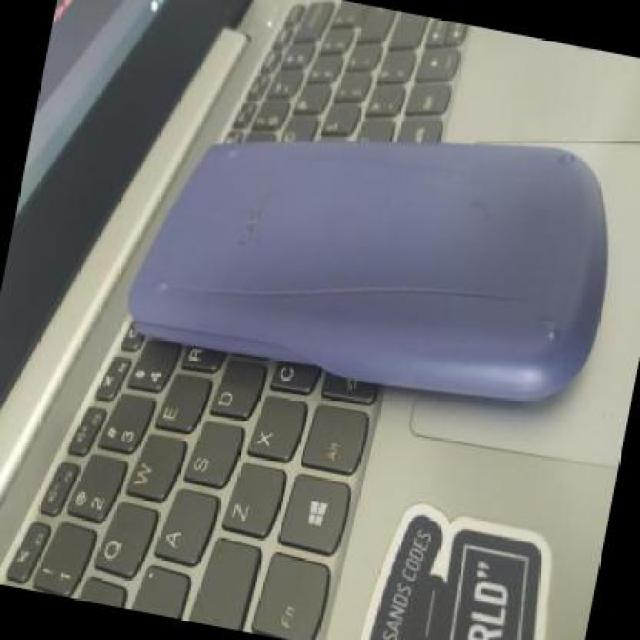Calculator: (111, 55, 638, 457)
